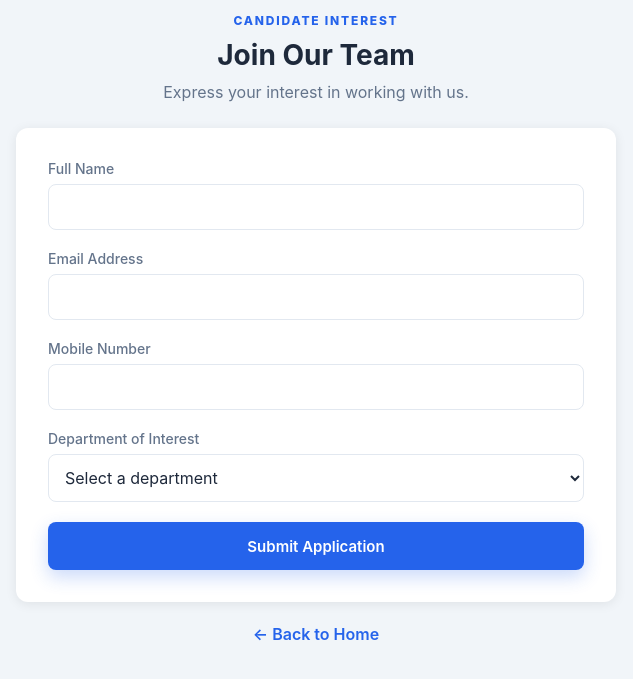
Test: InterestForm › rejects a duplicate email with the exact required message
Type "Alex Morgan" into the field labelled "Full Name" at x=316, y=207, box left=48, top=184, right=584, bottom=230
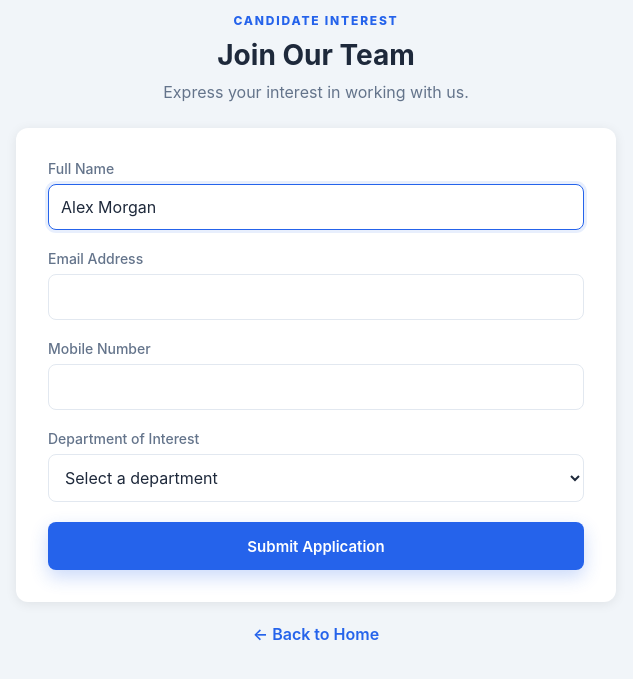
Type "ALEX@example.com" into the field labelled "Email Address" at x=316, y=297, box left=48, top=274, right=584, bottom=320
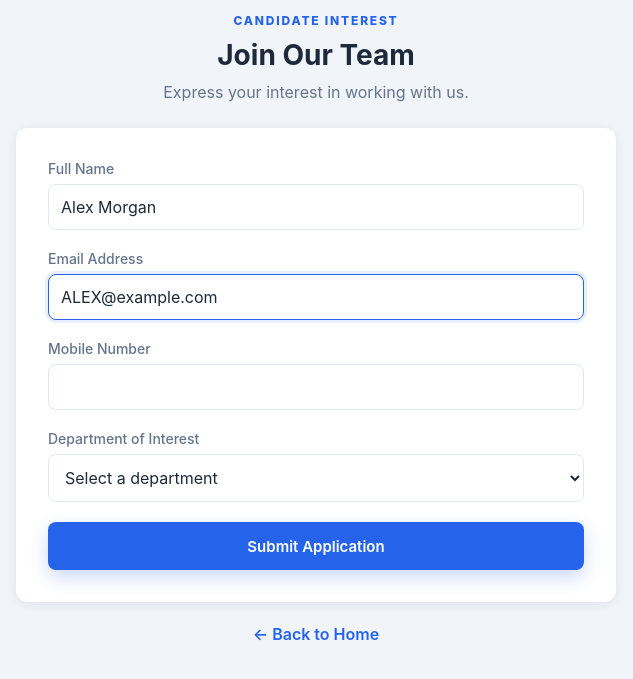
Type "9876543210" into the field labelled "Mobile Number" at x=316, y=387, box left=48, top=364, right=584, bottom=410
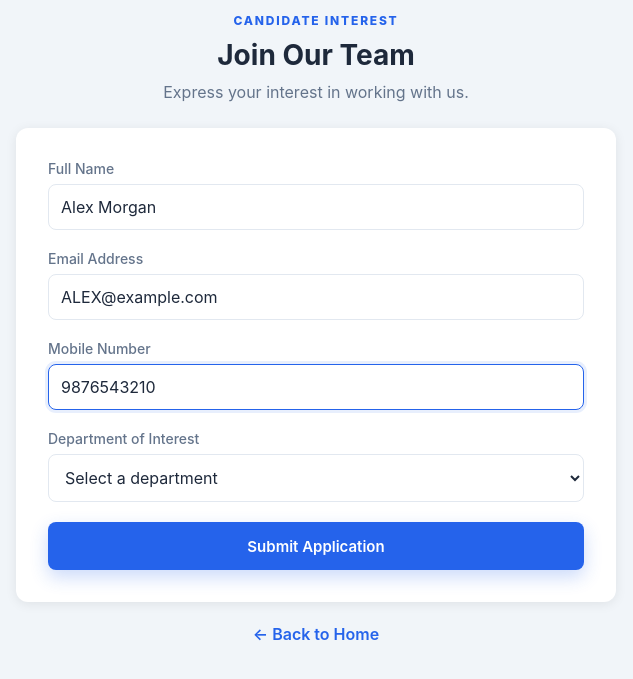
Select "Engineering" in the dropdown labelled "Department of Interest" at x=316, y=478, box left=48, top=454, right=584, bottom=502
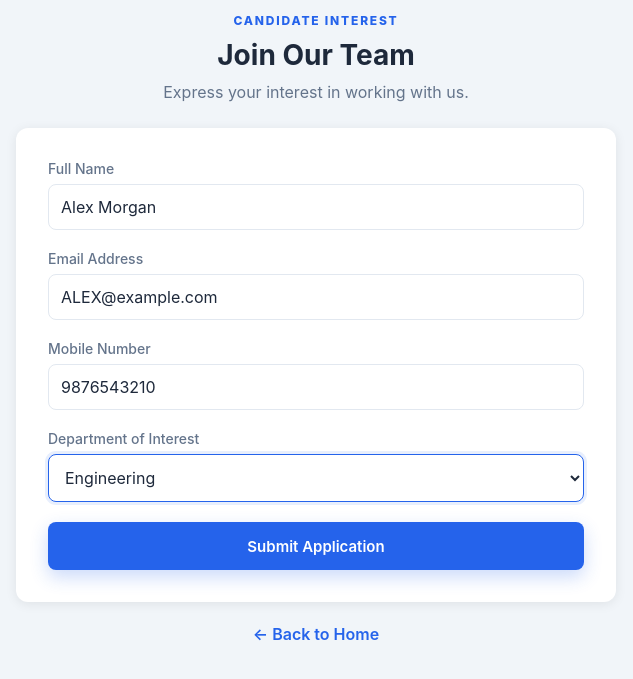
Click the button "Submit Application" at x=316, y=546, box left=48, top=522, right=584, bottom=570
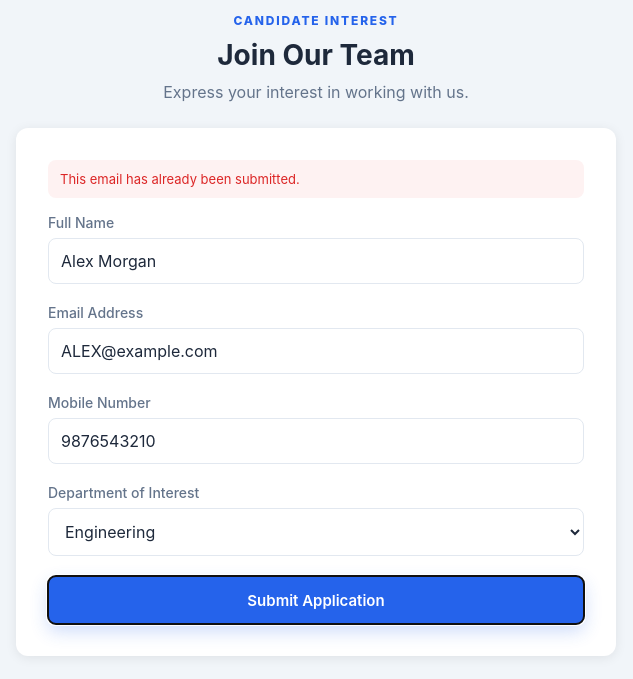
Now the message reads "This email has already been submitted.", box left=60, top=171, right=300, bottom=187
